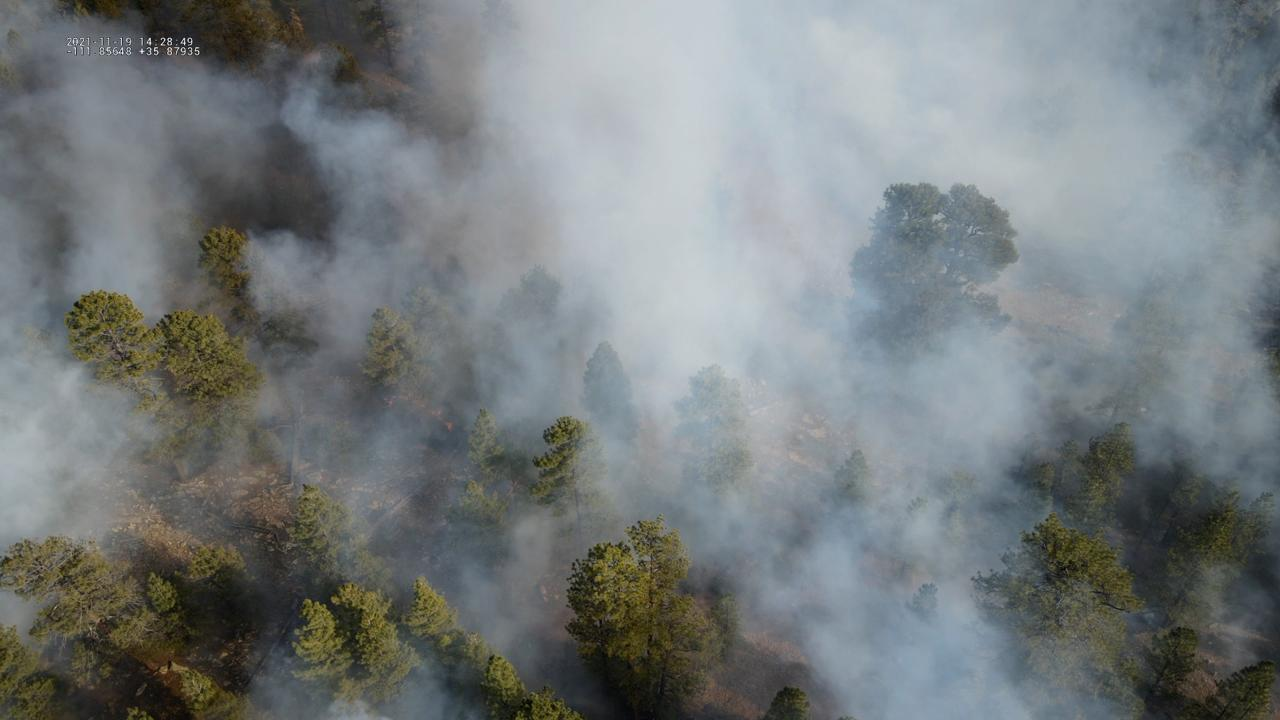fire: (381, 393, 442, 418), (447, 420, 454, 432)
smoke: (0, 0, 1280, 720)
